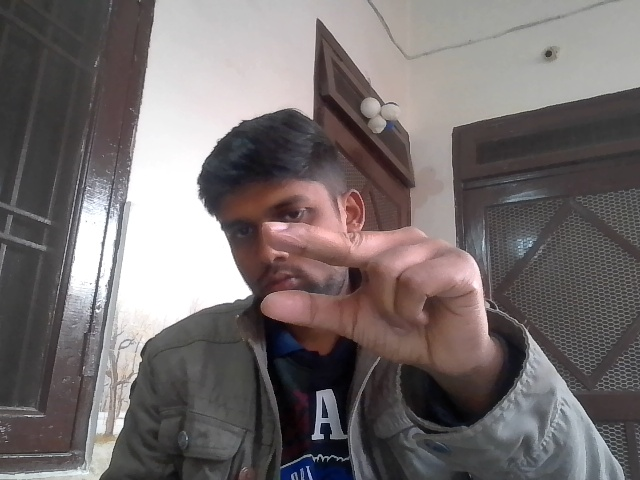No: (235, 213, 528, 384)
